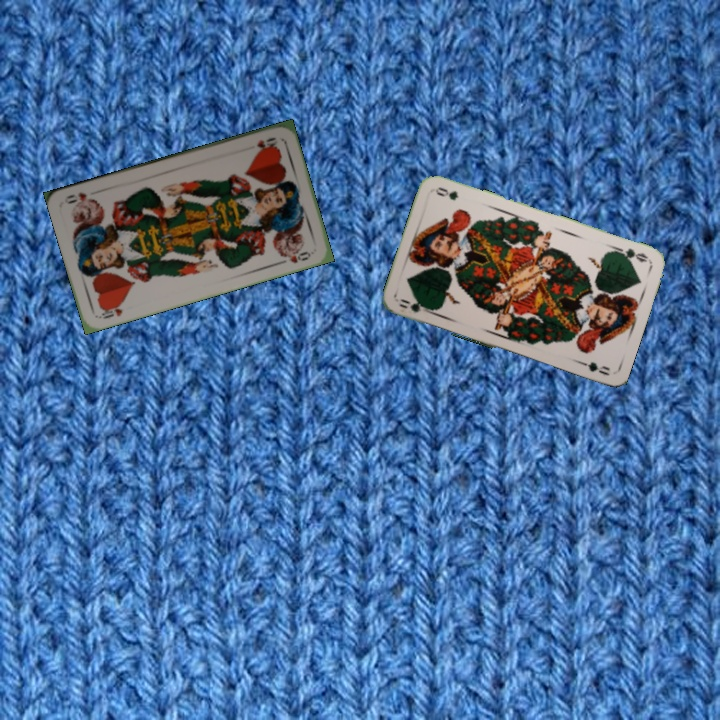GO: (395, 295, 435, 317), (611, 243, 651, 265)
HO: (95, 299, 125, 322), (253, 133, 280, 152)
